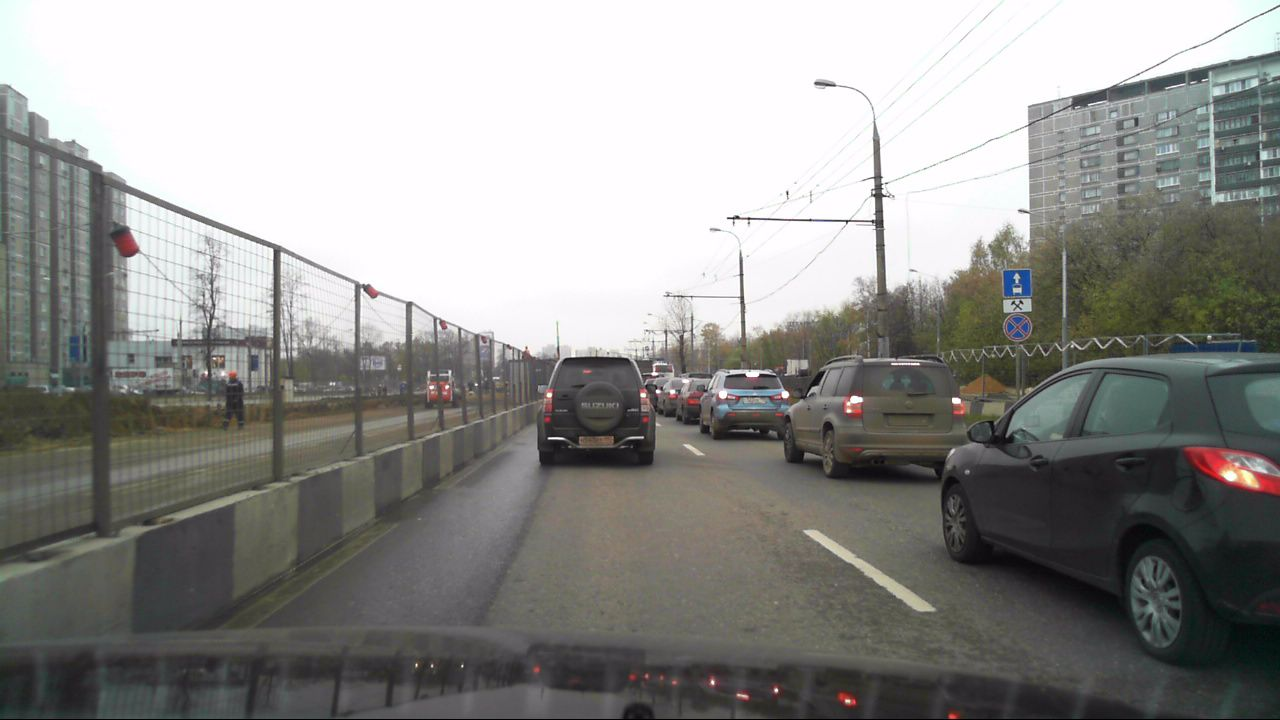No Parking: (1003, 314, 1032, 342)
